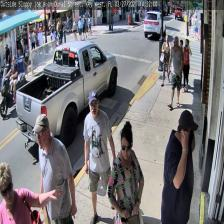person: (32, 113, 77, 223), (160, 109, 198, 224), (83, 90, 115, 223), (106, 122, 144, 224), (0, 161, 62, 222), (167, 36, 184, 109), (160, 34, 172, 87), (181, 39, 191, 92), (177, 39, 183, 87)
